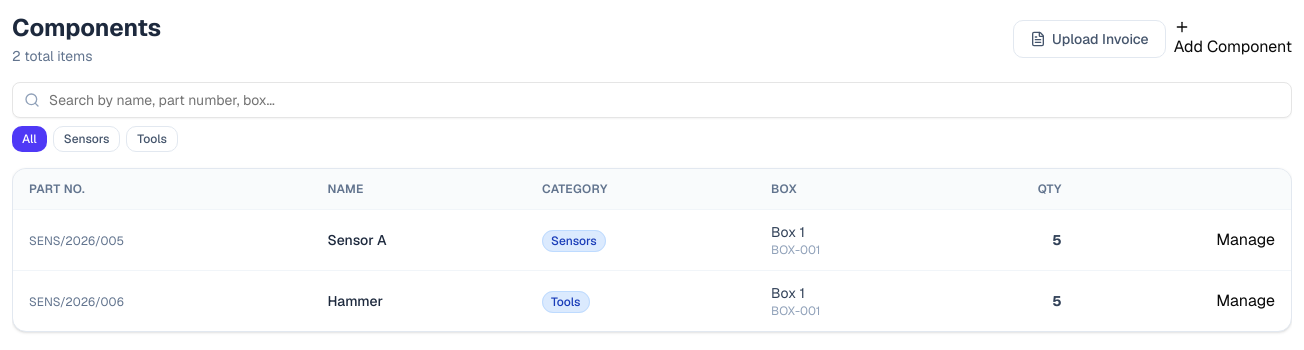
Test case: ComponentsClient category filter › narrows the list to the selected category
This screenshot has width=1304, height=350.
Click the button "Tools": point(152, 139) 126,126 -> 178,152
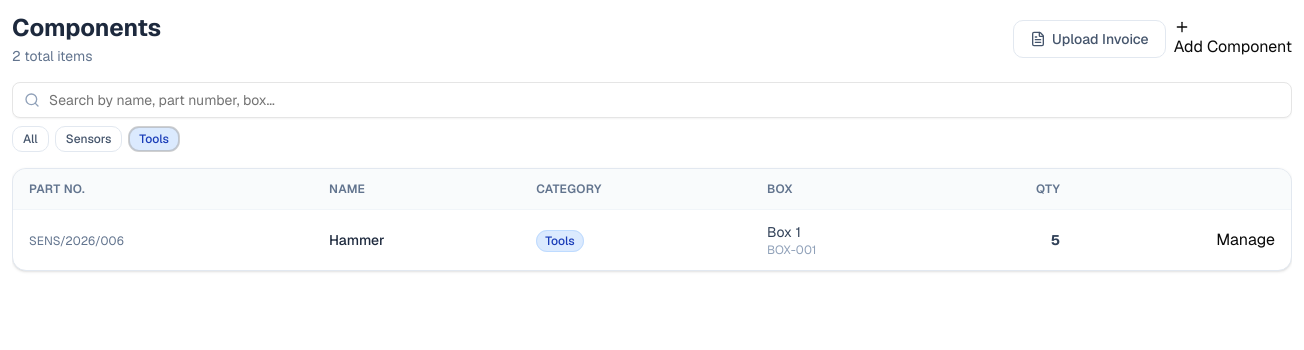
Expected: the text "Hammer" is shown, 329,231 -> 385,249
Now the text "Sensor A" is gone
